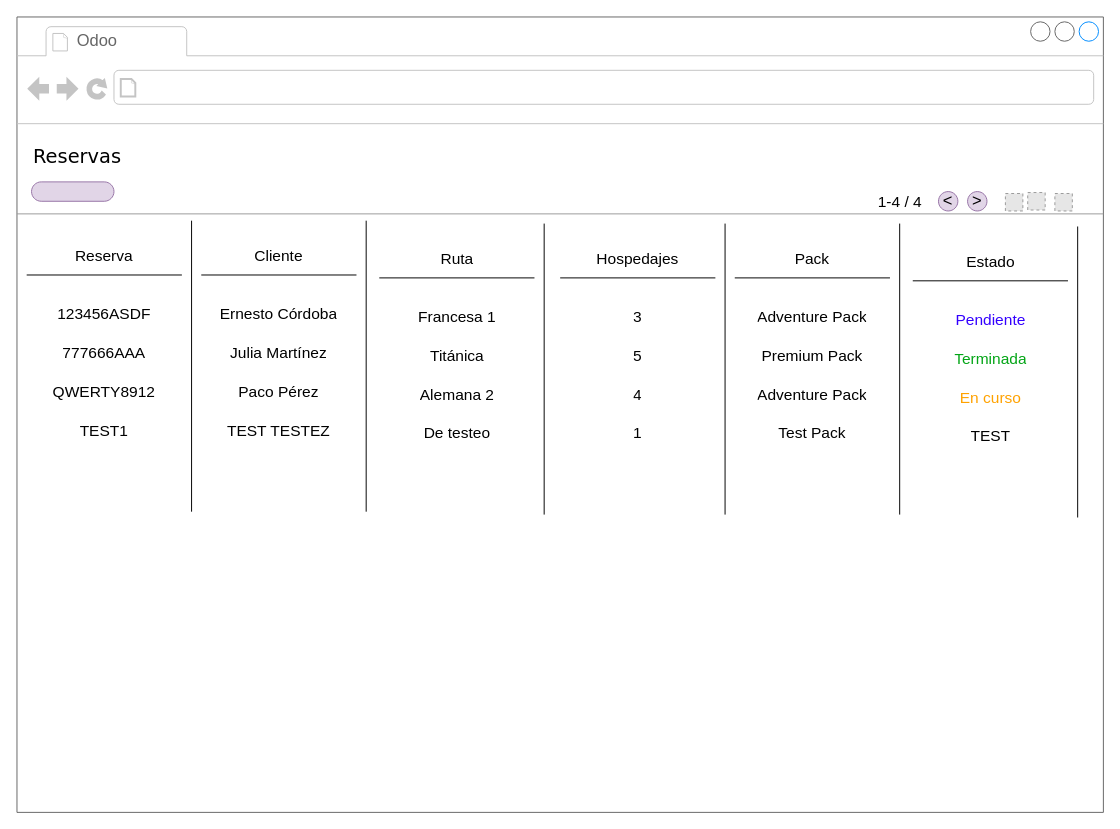
Some shapes in this 1120 by 829 pixel diagram are drawn without their labels. Grey dashed boxes stand in for pictures. The shapes that lost their labels are listed below. From the top down, each one's centre as x and y in pixels, then its label:
At point (264, 87): "localhost:8069/reservas".
At point (72, 191): "Crear".
